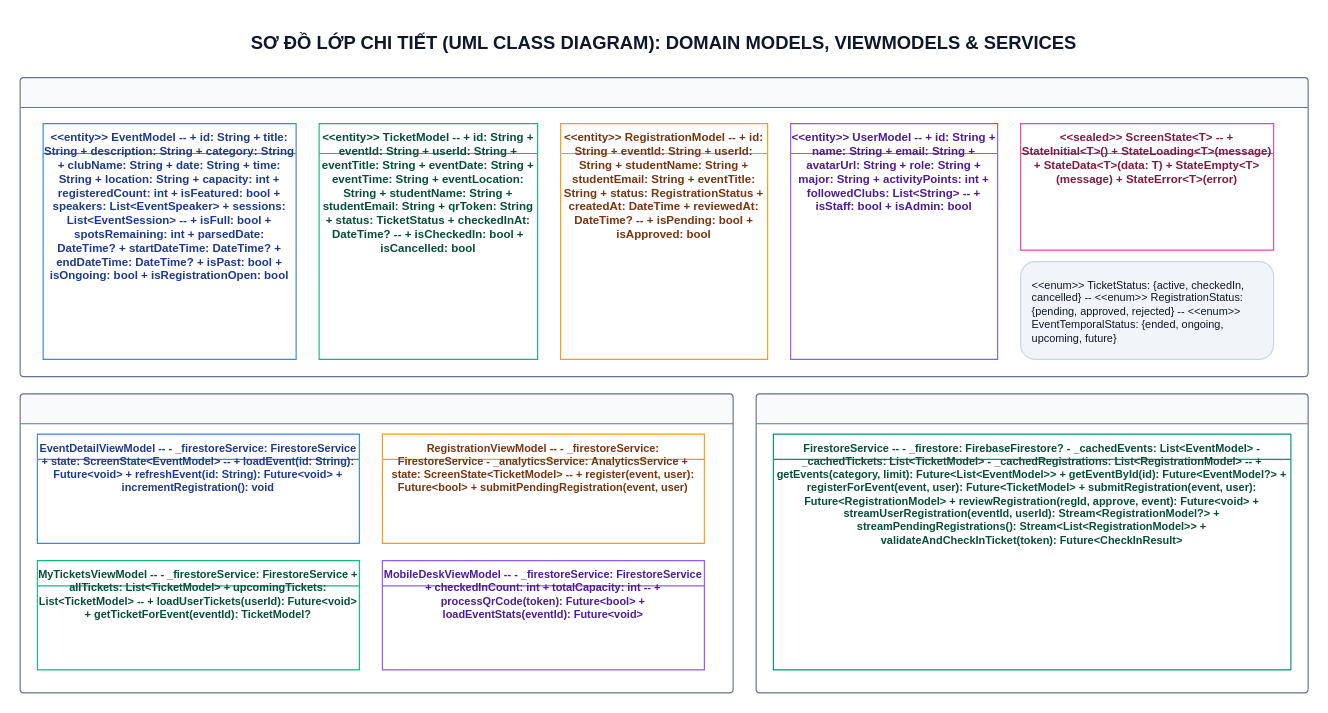
This 1328x713 diagram has some shape labels left out. The shapes that lost their labels are listed below. From the top down, each one's box as (x1, y1, x2, y2) in pixels, then its label:
(19, 76, 1308, 377): TẦNG THỰC THỂ DỮ LIỆU (DOMAIN MODELS - LIB/MODELS/)
(19, 393, 733, 693): TẦNG QUẢN LÝ TRẠNG THÁI GIAO DIỆN (VIEWMODELS - LIB/VIEWMODELS/)
(755, 393, 1308, 693): TẦNG DỊCH VỤ DỮ LIỆU & CLOUD (SERVICES - LIB/SERVICES/)
